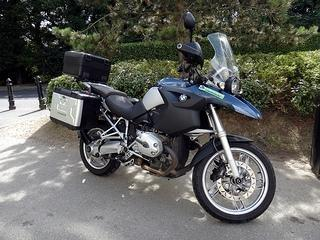motorcycle: (79, 12, 277, 220)
